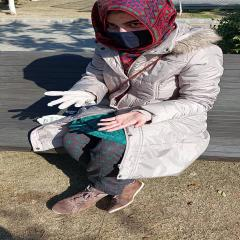gloved: (46, 91, 93, 108)
not-gloved: (96, 112, 144, 132)
